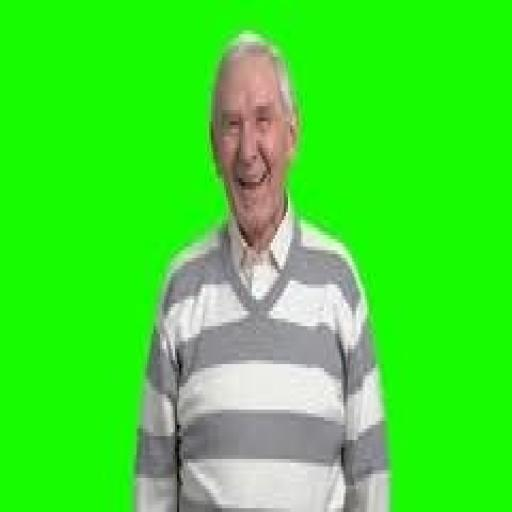laughing: (126, 23, 395, 504)
